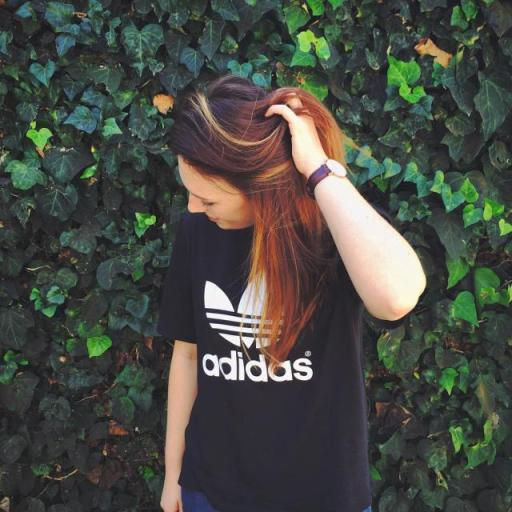Adidas: (198, 276, 315, 384)
